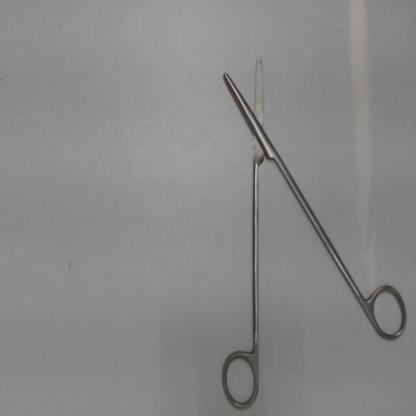9 Metzenbaum Scissors: (216, 52, 411, 414)
